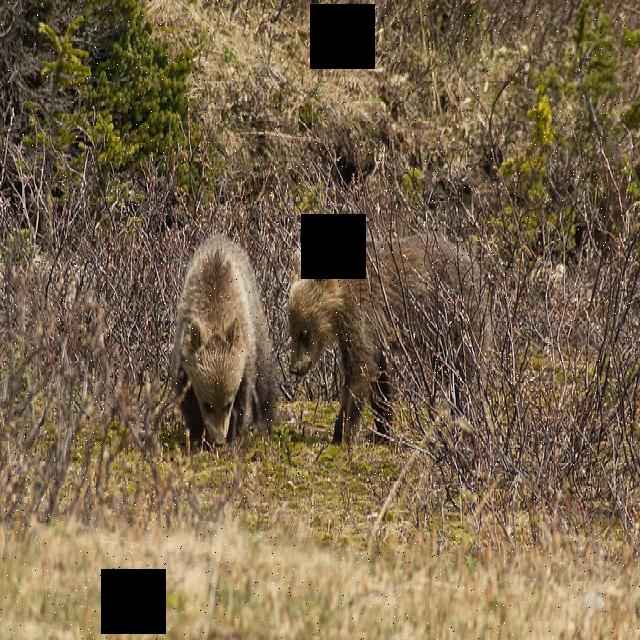Bear: (292, 234, 499, 456), (170, 223, 278, 441)
